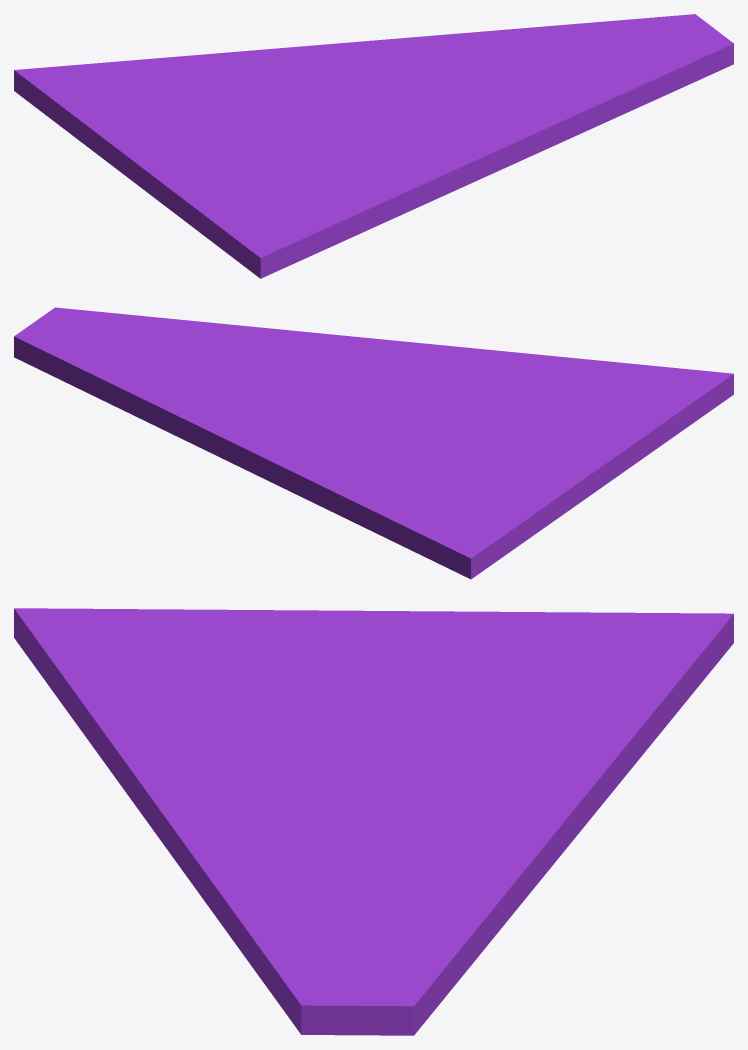
Rendered from StairsStep_31.fbx.
The picture shows the model from 3 angles, top to bottom: view 1: azimuth 30°, elevation 25°; view 2: azimuth 150°, elevation 25°; view 3: azimuth 270°, elevation 25°; orthographic projection. The views are drawn at different scales.
Parts seen in each view (by area): view 1: StairsStep_31; view 2: StairsStep_31; view 3: StairsStep_31.
Boxes of the visible parts, x1,y1,x2,y2 form: StairsStep_31: (14,14,733,278); StairsStep_31: (14,307,733,579); StairsStep_31: (14,608,733,1035).
Size of the model in its own units: 519 by 17.94 by 397.
